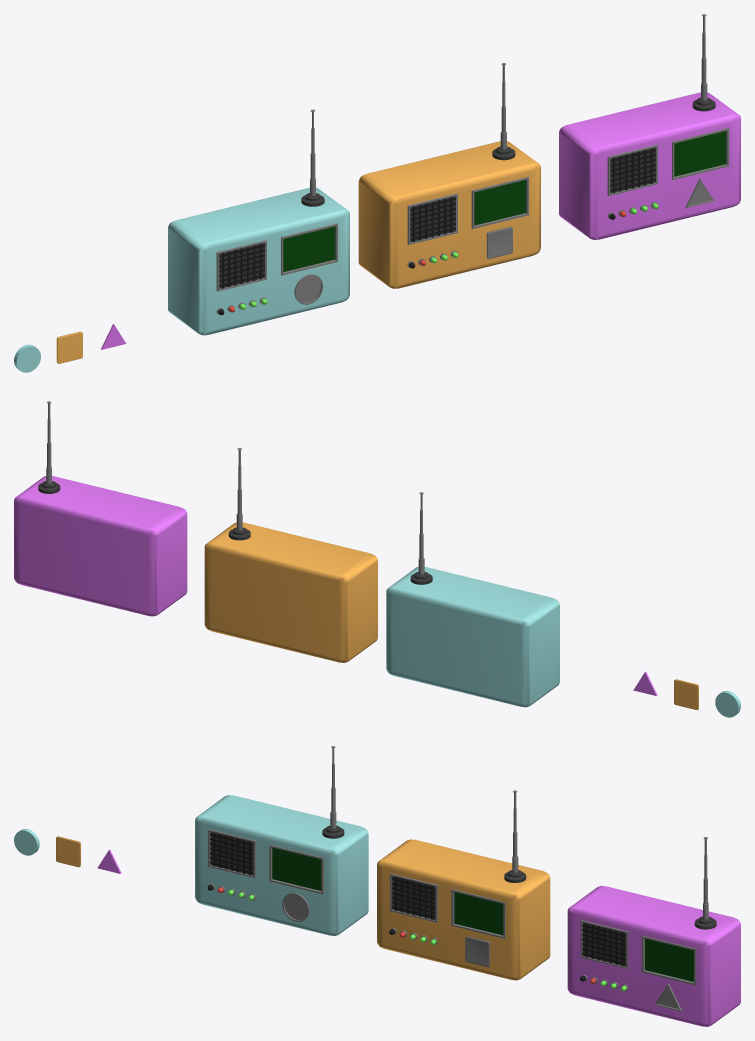
File: Radio.fbx
3 views of the same model, one above another, from view 1: azimuth 30°, elevation 25°; view 2: azimuth 150°, elevation 25°; view 3: azimuth 330°, elevation 25° (orthographic). The views are drawn at different scales.
Parts seen in each view (by area): view 1: RadioPurple, RadioOrange, RadioBlue, SquareComp, SquareSlot, CircleSlot, CircleComp; view 2: RadioOrange, RadioPurple, RadioBlue, SquareComp, CircleComp; view 3: RadioPurple, RadioOrange, RadioBlue, SquareSlot, SquareComp, CircleSlot, CircleComp.
Boxes of the visible parts, x1,y1,x2,y2 form: RadioPurple: [559, 14, 740, 239]; RadioOrange: [358, 63, 540, 288]; RadioBlue: [168, 109, 349, 335]; SquareComp: [56, 331, 82, 363]; SquareSlot: [486, 226, 512, 259]; CircleSlot: [294, 274, 323, 304]; CircleComp: [14, 344, 40, 372]; RadioOrange: [204, 448, 377, 662]; RadioPurple: [14, 401, 187, 616]; RadioBlue: [386, 492, 559, 707]; SquareComp: [674, 679, 698, 709]; CircleComp: [715, 690, 740, 717]; RadioPurple: [567, 837, 740, 1026]; RadioOrange: [377, 790, 550, 980]; RadioBlue: [195, 746, 368, 935]; SquareSlot: [465, 936, 489, 967]; SquareComp: [56, 836, 80, 867]; CircleSlot: [282, 892, 309, 921]; CircleComp: [14, 829, 39, 855].
Bounding box in the file's own units: 1226 × 296 × 109.
